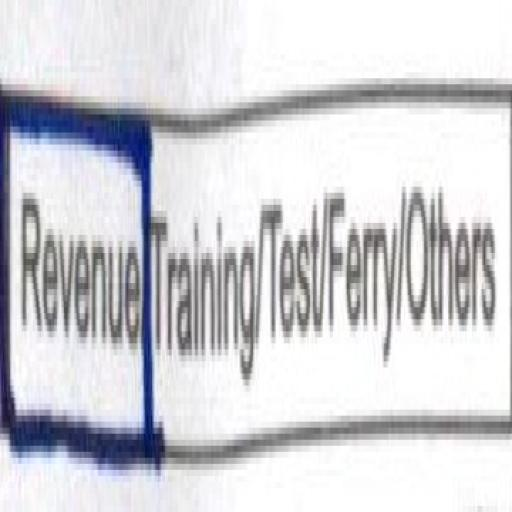check: (0, 24, 156, 512)
